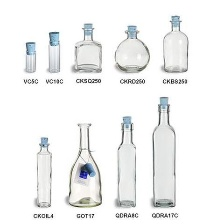bottle: (60, 114, 107, 211), (147, 100, 181, 213), (111, 114, 140, 209), (157, 17, 193, 74), (110, 27, 150, 74), (67, 26, 103, 74), (30, 140, 55, 208), (43, 39, 63, 76), (19, 48, 39, 75)
